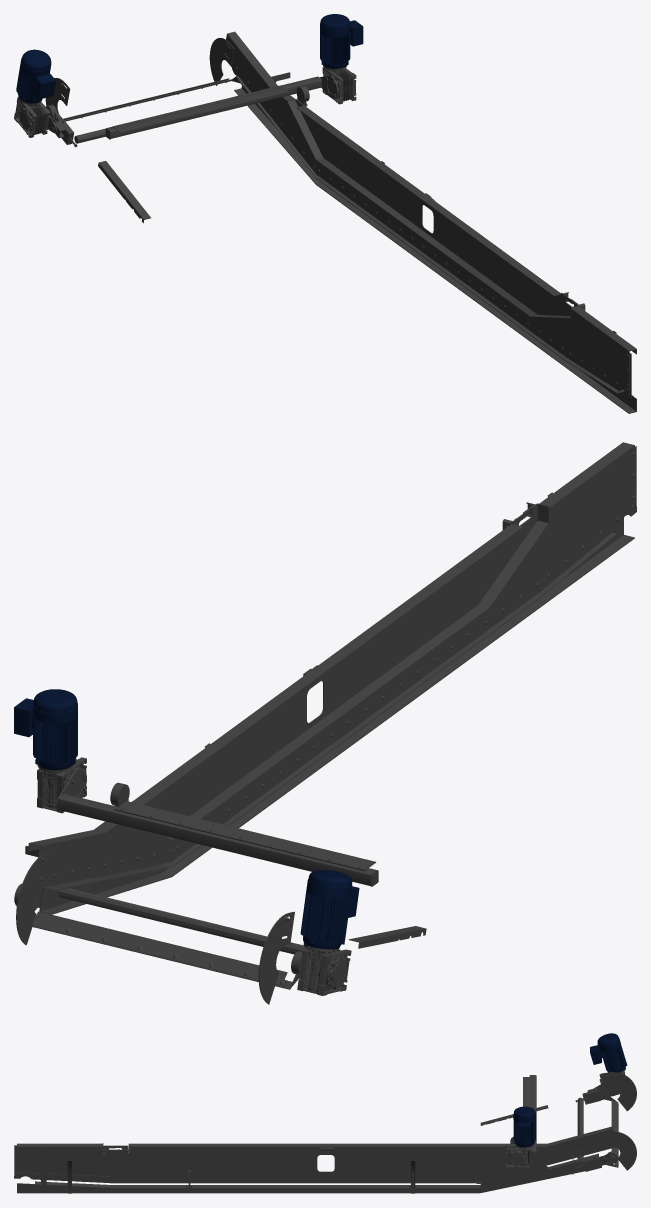
Rendered from 蓋子上升2.FBX.
The picture shows the model from 3 angles, top to bottom: view 1: azimuth 30°, elevation 25°; view 2: azimuth 150°, elevation 25°; view 3: azimuth 270°, elevation 25°; orthographic projection. The views are drawn at different scales.
Parts seen in each view (by area): view 1: 蓋子上升2; view 2: 蓋子上升2; view 3: 蓋子上升2.
Part boxes in pixels (x1,y1,x2,y2): 蓋子上升2: (14,14,636,413); 蓋子上升2: (14,442,636,1004); 蓋子上升2: (14,1033,636,1193).
Bounding box in the file's own units: 54.8 × 24.79 × 143.
